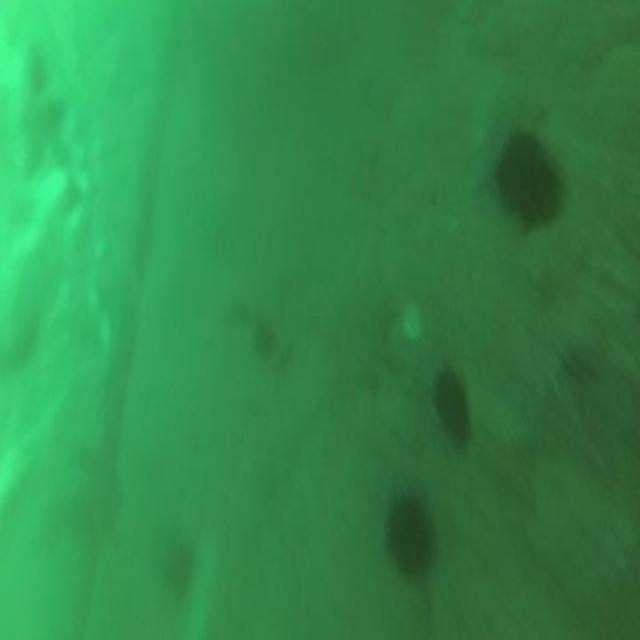echinus: (484, 108, 568, 240), (380, 474, 442, 588), (425, 353, 480, 455)
